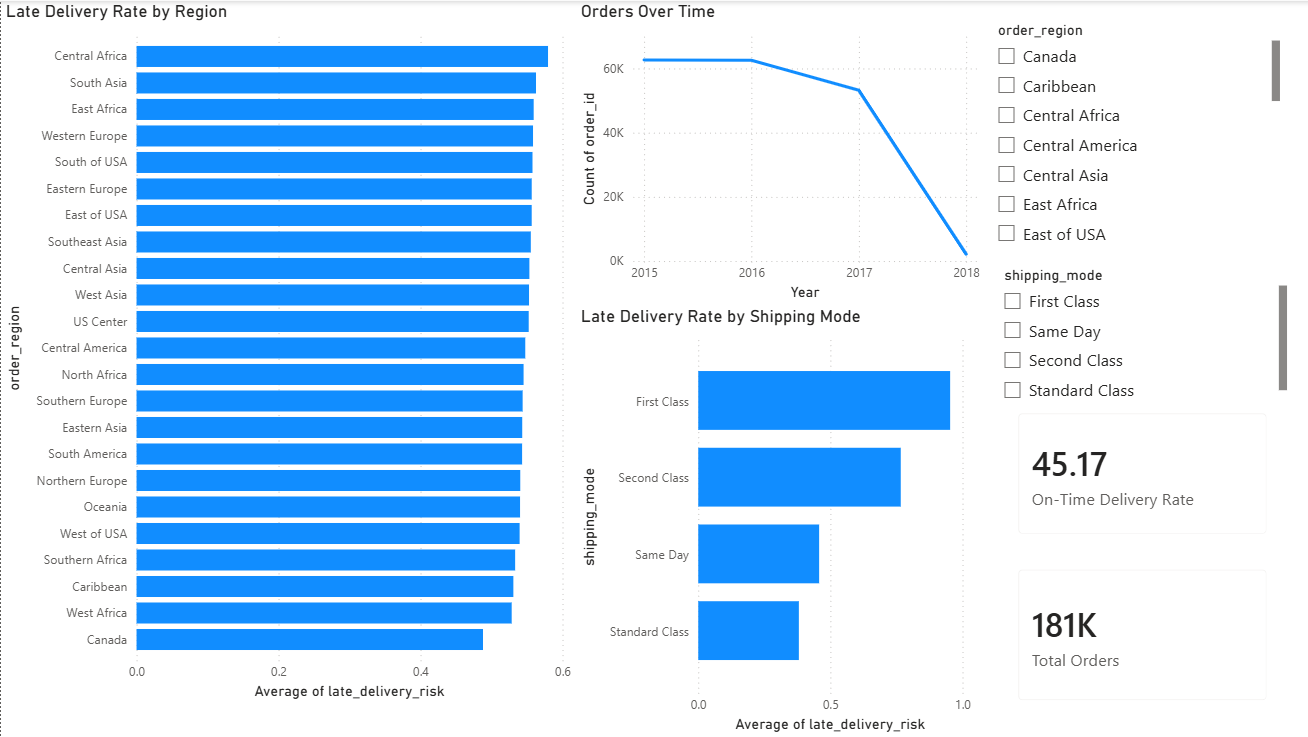

The page's visual inventory and layout, read from the dashboard file:
{"tool":"powerbi","page":{"name":"Page 1","canvas":[1280,720],"ordinal":0},"visuals":[{"type":"cardVisual","title":"On-Time Delivery Rate","fields":{"Data":["orders.% On-Time"]},"box":[978.3,386.4,277.6,152.9],"z":0},{"type":"cardVisual","fields":{"Data":["orders.Total Orders"]},"box":[978.3,539.3,277.6,162.6],"z":1000},{"type":"clusteredBarChart","title":"Late Delivery Rate by Region","fields":{"Category":["orders.order_region"],"Y":["Avg(orders.late_delivery_risk)"]},"box":[0,0,562.5,688.5],"z":2000},{"type":"clusteredBarChart","title":"Late Delivery Rate by Shipping Mode","fields":{"Category":["orders.shipping_mode"],"Y":["Avg(orders.late_delivery_risk)"]},"box":[562.5,298.4,391.3,421.9],"z":3000},{"type":"lineChart","title":"Orders Over Time","fields":{"Y":["CountNonNull(orders.order_id)"],"Category":["orders.order_date.Variation.Date Hierarchy.Year","orders.order_date.Variation.Date Hierarchy.Quarter","orders.order_date.Variation.Date Hierarchy.Month","orders.order_date.Variation.Date Hierarchy.Day"]},"box":[562.5,0,399.9,298.4],"z":3001},{"type":"slicer","fields":{"Values":["orders.order_region"]},"box":[962.4,14.7,293.5,228.7],"z":3002},{"type":"slicer","fields":{"Values":["orders.shipping_mode"]},"box":[968.5,254.3,294.7,143.1],"z":3003}]}

Visuals, with their boxes in screenshot pixels (x1, y1, x2, y2), scaled from the page's 1280x720 canvas onto the 1308x737 screenshot:
"On-Time Delivery Rate" cardVisual: locate(1000, 396, 1283, 552)
cardVisual - orders.Total Orders: locate(1000, 552, 1283, 718)
"Late Delivery Rate by Region" clusteredBarChart: locate(0, 0, 575, 705)
"Late Delivery Rate by Shipping Mode" clusteredBarChart: locate(575, 305, 975, 736)
"Orders Over Time" lineChart: locate(575, 0, 983, 305)
slicer - orders.order_region: locate(983, 15, 1283, 249)
slicer - orders.shipping_mode: locate(990, 260, 1291, 407)
